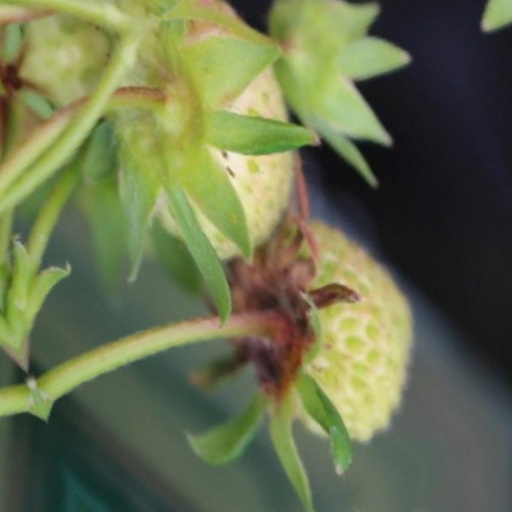Gray Mold: (194, 104, 339, 326)
